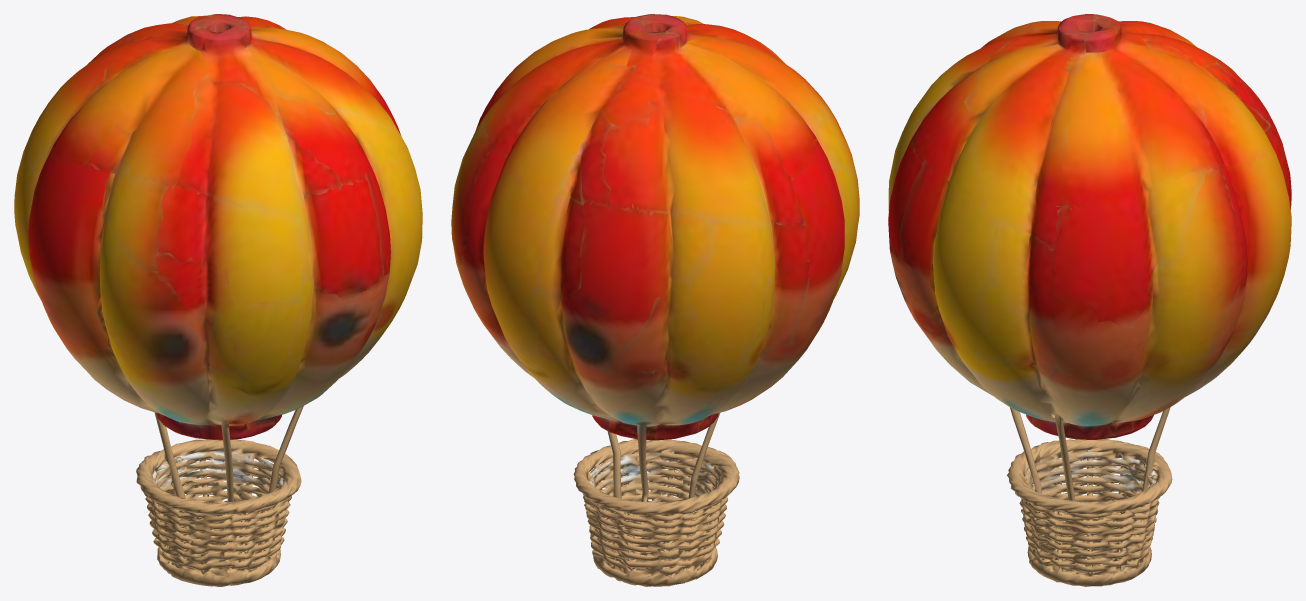
The model's file is balloon.glb.
3 renders of one model, left to right at view 1: azimuth 30°, elevation 25°; view 2: azimuth 150°, elevation 25°; view 3: azimuth 270°, elevation 25°, orthographic.
Size of the model in its own units: 1.31 by 1.9 by 1.29.
1 material, 1 textured.
